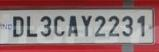1: (136, 14, 145, 36)
2: (107, 14, 120, 37), (93, 15, 106, 36)
3: (120, 14, 134, 36), (39, 15, 51, 36)
A: (66, 14, 79, 36)
C: (52, 14, 65, 36)
D: (12, 15, 24, 37)
L: (24, 14, 37, 37)
Y: (80, 14, 91, 36)
